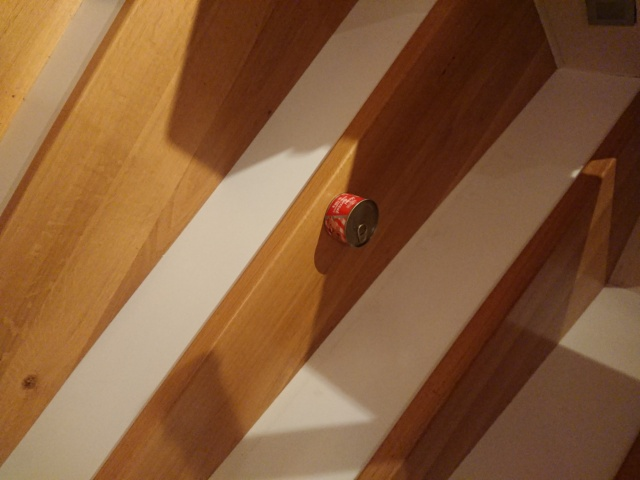Podravka Luncheon Meat 150g: (321, 190, 382, 251)
